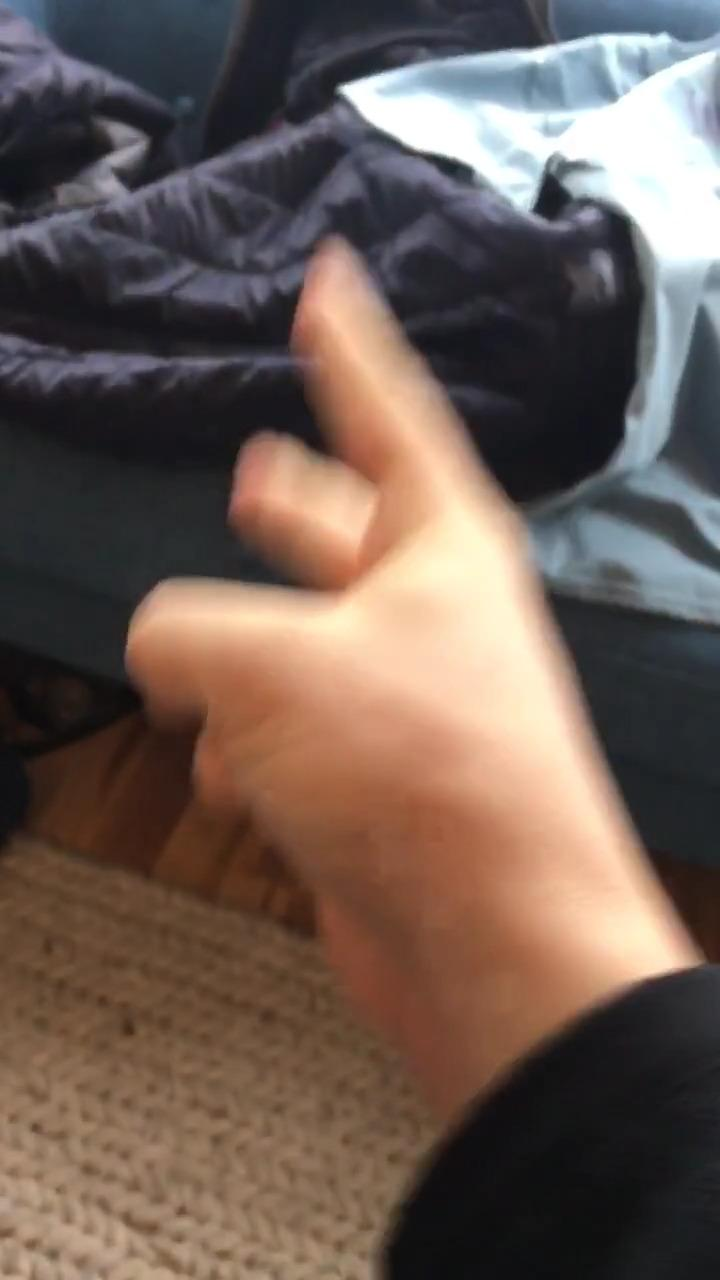Scissors: (128, 242, 600, 1013)
